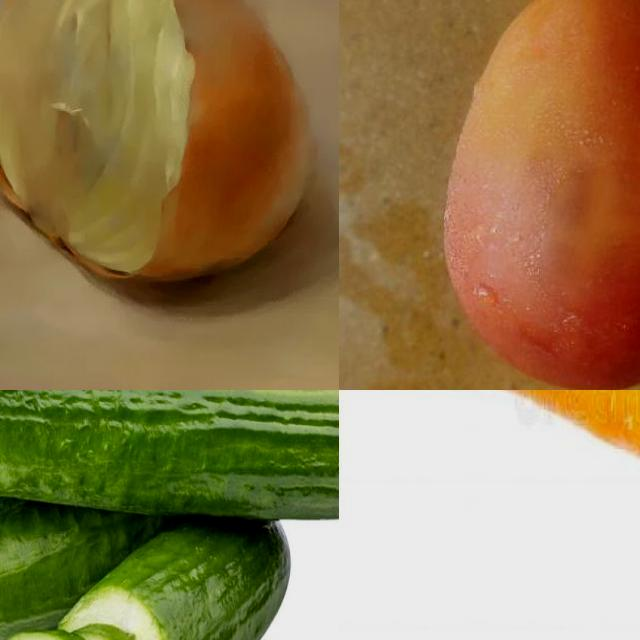carrot: (370, 391, 640, 624)
cucumber: (1, 391, 340, 517), (61, 518, 291, 640), (1, 495, 173, 640)
onion: (1, 1, 321, 298)
tomato: (421, 1, 640, 391)
